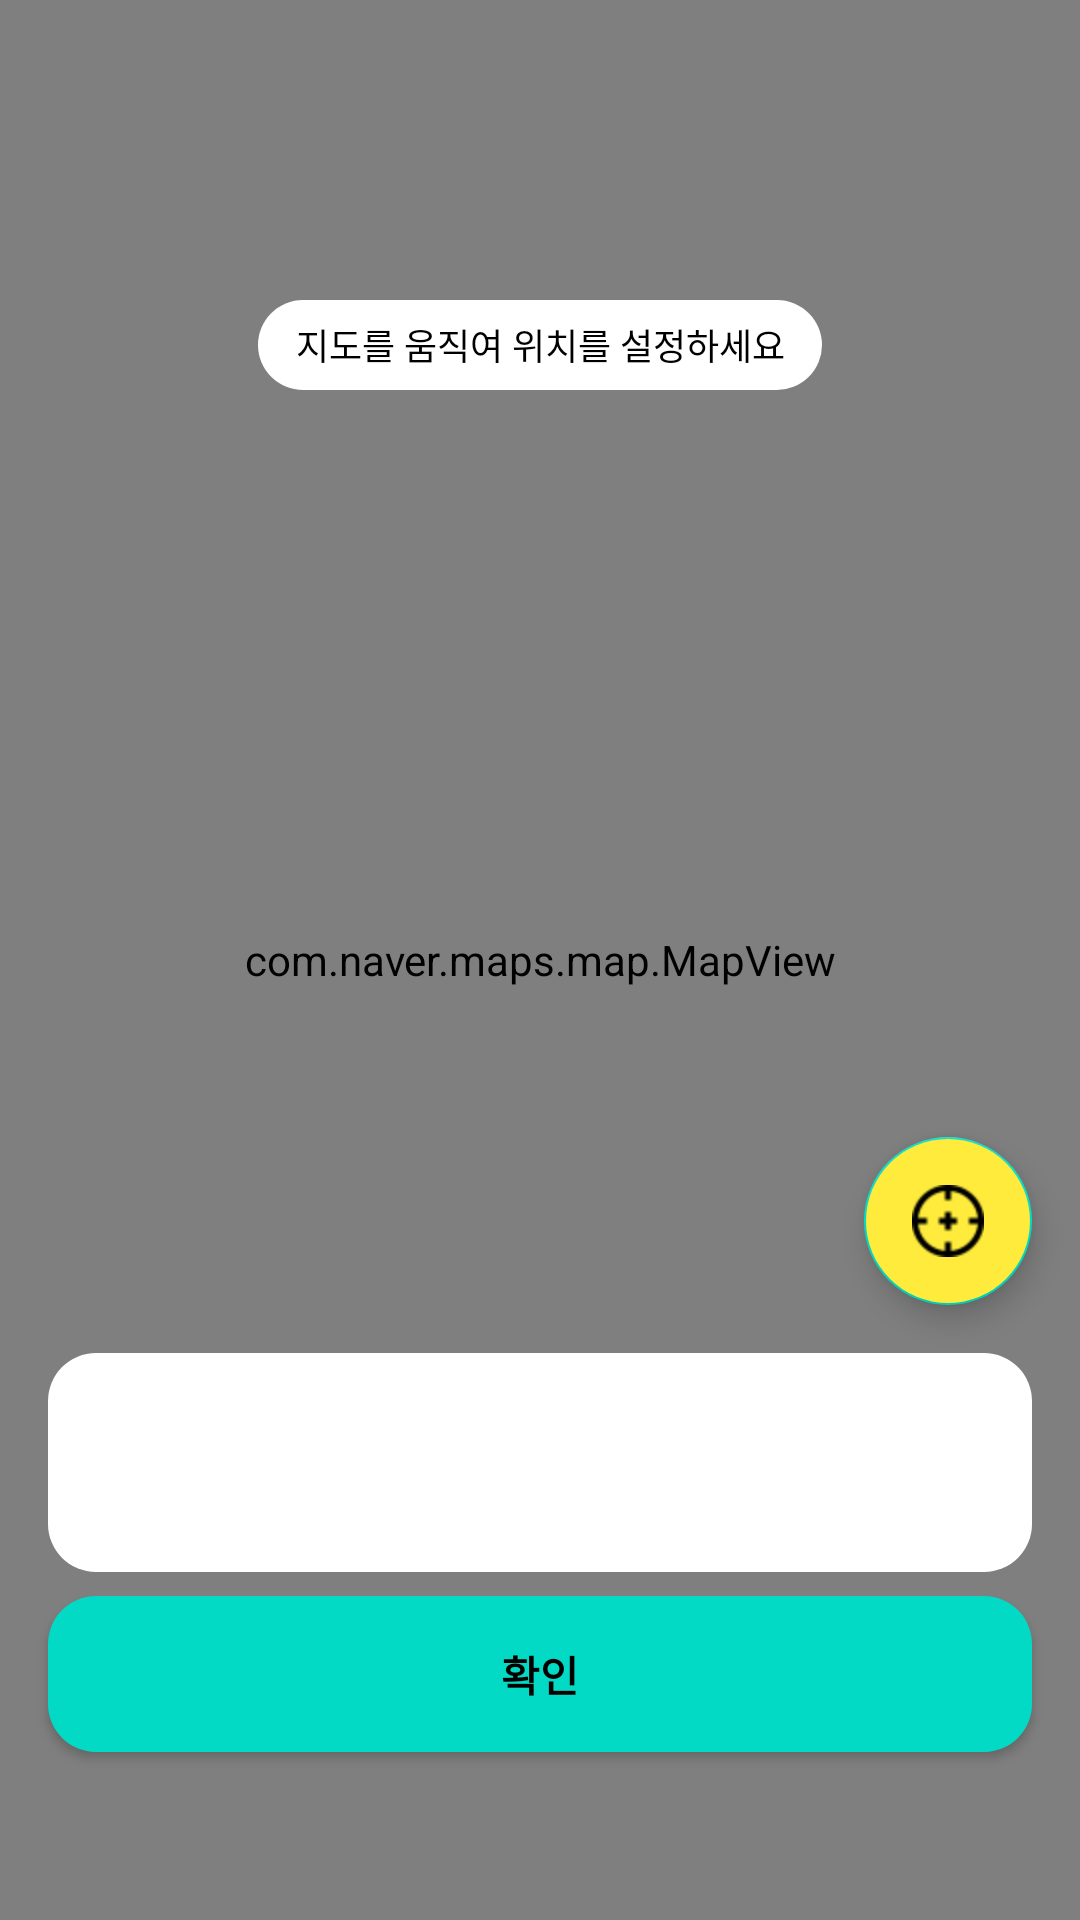

Named icons in this screenshot (1080px×1920px) and their bounding boxes, box(x1, y1, x2, y2):
추적: box(864, 1137, 1032, 1305)
